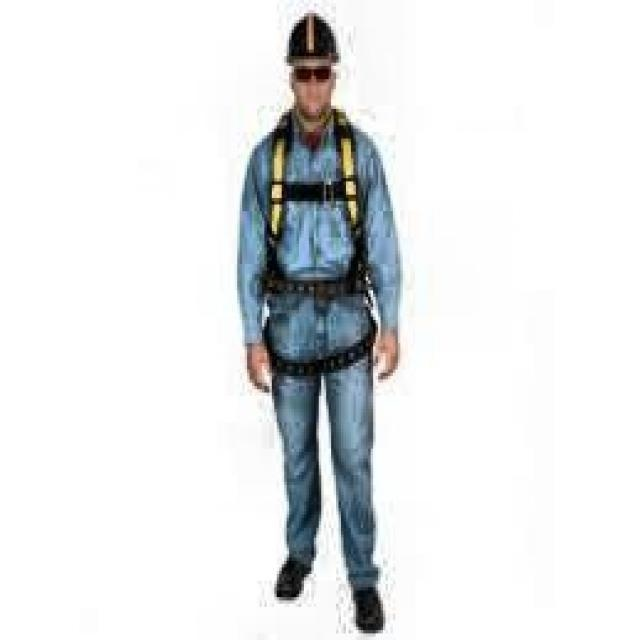Arnes_seguridad: (262, 100, 381, 383)
